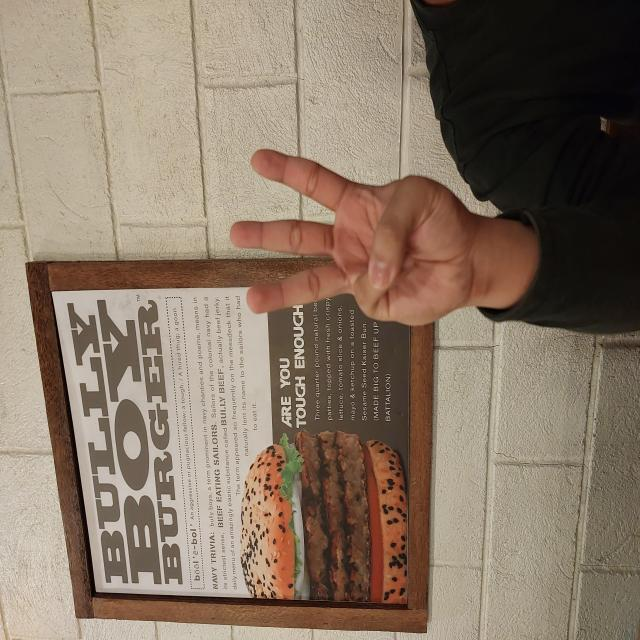W: (313, 229, 492, 478)
